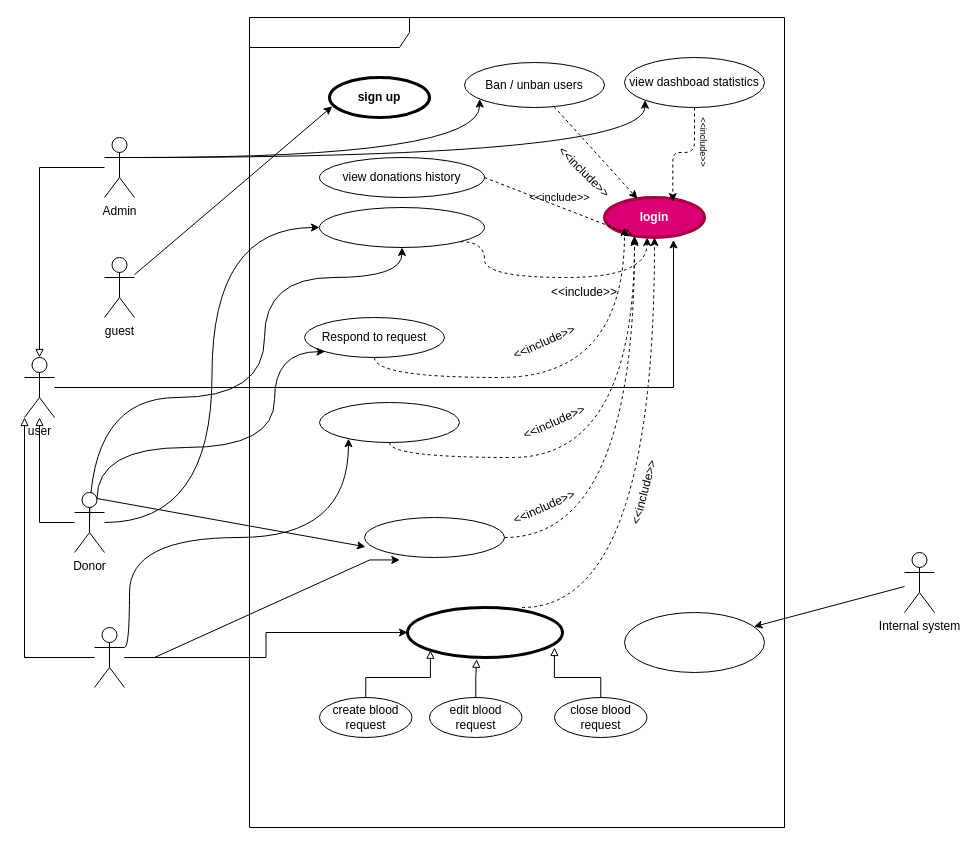
Some shapes in this 977 by 845 pixel diagram are drawn without their labels. Each missing label, with the box of its shape:
Life Link: (248, 16, 784, 828)
Manage availability: (364, 516, 504, 558)
manage blood requests: (406, 606, 564, 658)
Recipient: (94, 626, 124, 688)
Send notifications to compatible donors: (624, 612, 764, 672)
view compatible requests: (318, 206, 484, 248)
View volunteers: (318, 402, 460, 442)
